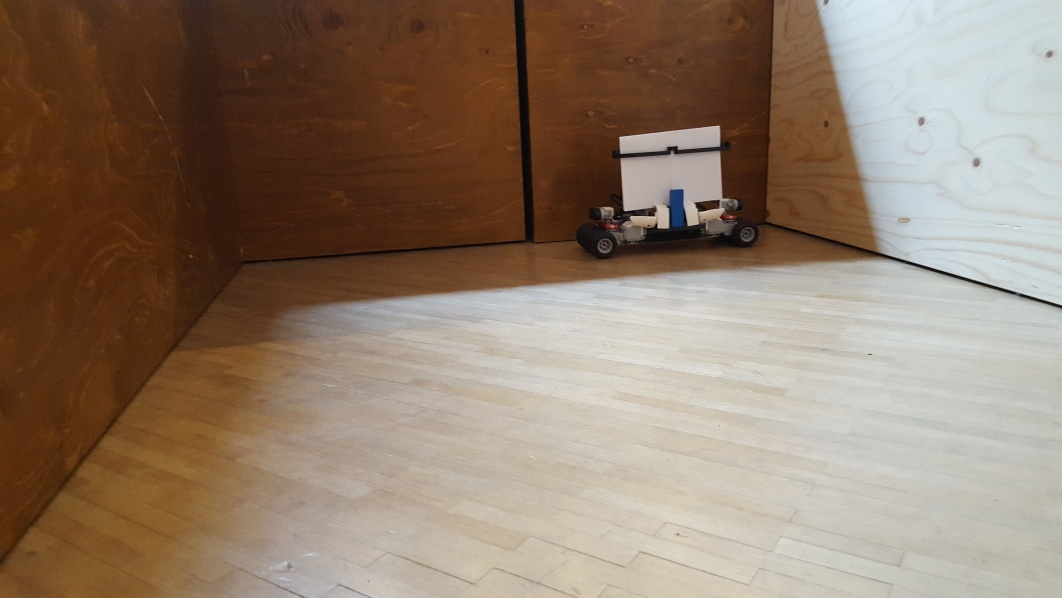car: (574, 124, 760, 257)
